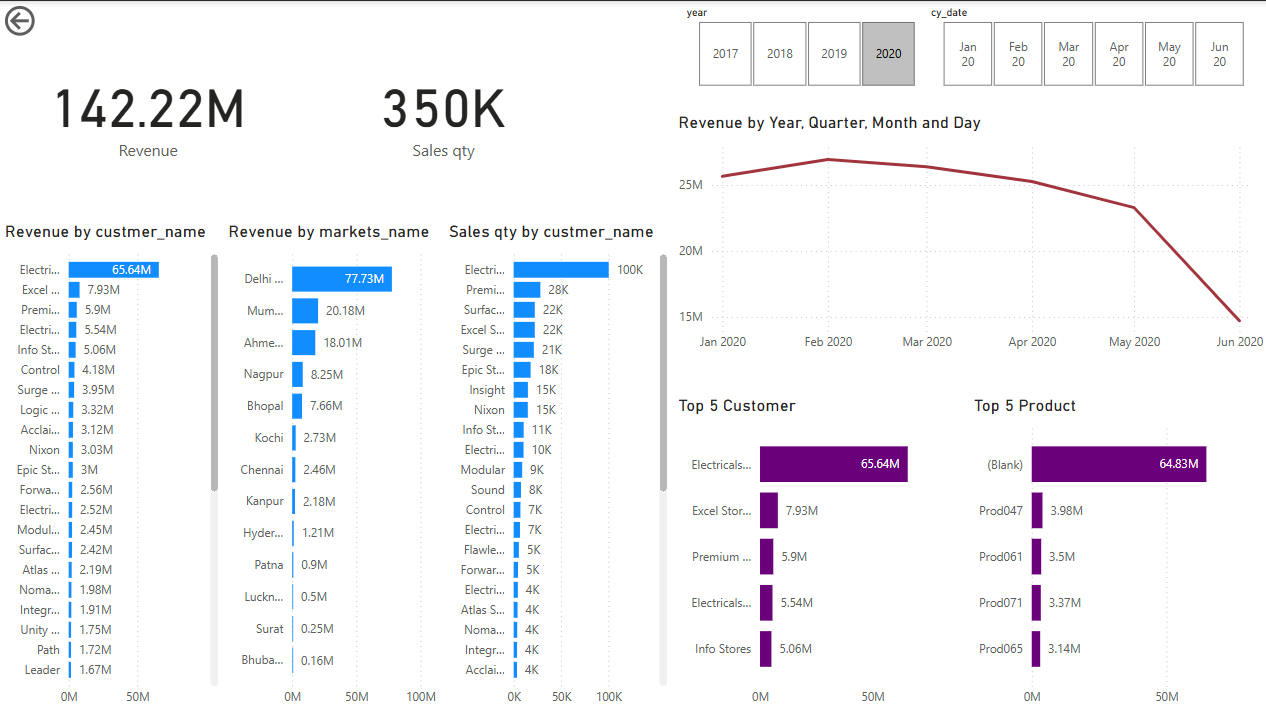

What the dashboard file says about the page in this screenshot:
{"tool":"powerbi","page":{"name":"Page 1","canvas":[1280,720],"ordinal":0},"visuals":[{"type":"card","fields":{"Values":["BaseMeasures.Revenue"]},"box":[0,0,298.3,222.6],"z":0},{"type":"card","fields":{"Values":["BaseMeasures.Sales qty"]},"box":[298.3,0,298.3,222.6],"z":2000},{"type":"actionButton","box":[0,0,100,40],"z":3000},{"type":"barChart","fields":{"Y":["BaseMeasures.Revenue"],"Category":["sales customers.custmer_name"]},"box":[0,222.5,225,497.5],"z":4000},{"type":"barChart","fields":{"Y":["BaseMeasures.Sales qty"],"Category":["sales customers.custmer_name"]},"box":[447.5,222.5,230,497.5],"z":6000},{"type":"slicer","fields":{"Values":["sales date.year"]},"box":[680,0,267.5,92.5],"z":8000},{"type":"slicer","fields":{"Values":["sales date.cy_date"]},"box":[926.7,0,352.8,92.4],"z":8001},{"type":"barChart","fields":{"Y":["BaseMeasures.Revenue"],"Category":["sales markets.markets_name","sales customers.custmer_name"]},"box":[225,222.5,222.5,497.5],"z":8002},{"type":"barChart","title":"Top 5 Customer","fields":{"Y":["BaseMeasures.Revenue"],"Category":["sales customers.custmer_name"]},"box":[680,397.5,297.5,322.5],"z":8003},{"type":"barChart","title":"Top 5 Product","fields":{"Y":["BaseMeasures.Revenue"],"Category":["sales products.product_code"]},"box":[977.5,397.5,302.5,322.5],"z":8004},{"type":"lineChart","fields":{"Y":["BaseMeasures.Revenue"],"Category":["sales date.cy_date.Variation.Date Hierarchy.Year","sales date.cy_date.Variation.Date Hierarchy.Quarter","sales date.cy_date.Variation.Date Hierarchy.Month","sales date.cy_date.Variation.Date Hierarchy.Day"]},"box":[680,112.5,600,250],"z":8005}]}

Visuals, with their boxes in screenshot pixels (x1, y1, x2, y2), scaled from the page's 1280x720 canvas onto the 1266x713 screenshot:
card - BaseMeasures.Revenue: [0, 0, 295, 220]
card - BaseMeasures.Sales qty: [295, 0, 590, 220]
actionButton: [0, 0, 99, 40]
barChart - BaseMeasures.Revenue x sales customers.custmer_name: [0, 220, 223, 712]
barChart - BaseMeasures.Sales qty x sales customers.custmer_name: [443, 220, 670, 712]
slicer - sales date.year: [673, 0, 937, 92]
slicer - sales date.cy_date: [917, 0, 1265, 92]
barChart - BaseMeasures.Revenue x sales markets.markets_name: [223, 220, 443, 712]
"Top 5 Customer" barChart: [673, 394, 967, 712]
"Top 5 Product" barChart: [967, 394, 1265, 712]
lineChart - BaseMeasures.Revenue x sales date.cy_date.Variation.Date Hierarchy.Year: [673, 111, 1265, 359]
